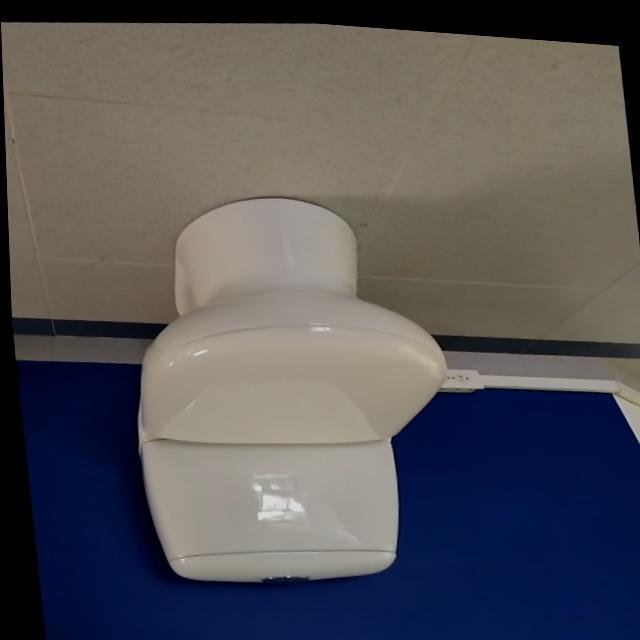toilet: (107, 171, 468, 600)
